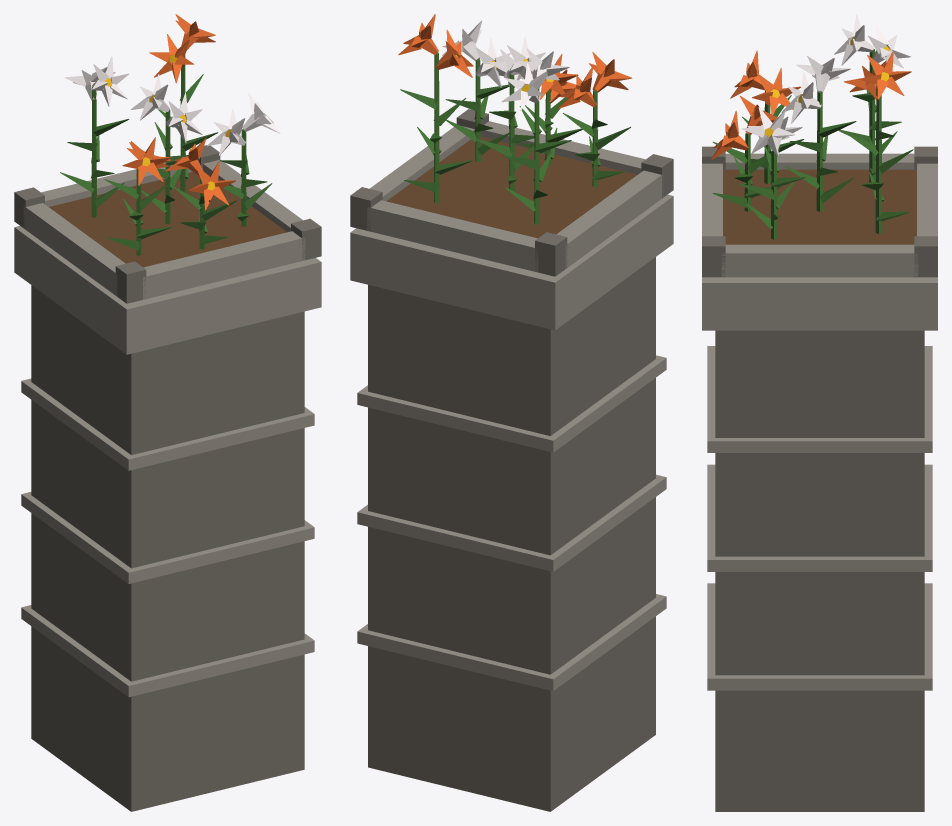
The model's file is decor_lilies.glb.
3 views of the same model, side by side, from view 1: azimuth 30°, elevation 25°; view 2: azimuth 150°, elevation 25°; view 3: azimuth 270°, elevation 25° (orthographic). The views are drawn at different scales.
Parts seen in each view (by area): view 1: decor_lilies; view 2: decor_lilies; view 3: decor_lilies.
Part boxes in pixels (x1,y1,x2,y2): decor_lilies: (14, 14, 321, 811); decor_lilies: (350, 14, 673, 811); decor_lilies: (702, 14, 937, 811).
Bounding box in the file's own units: 1.8 × 6.22 × 1.8.
